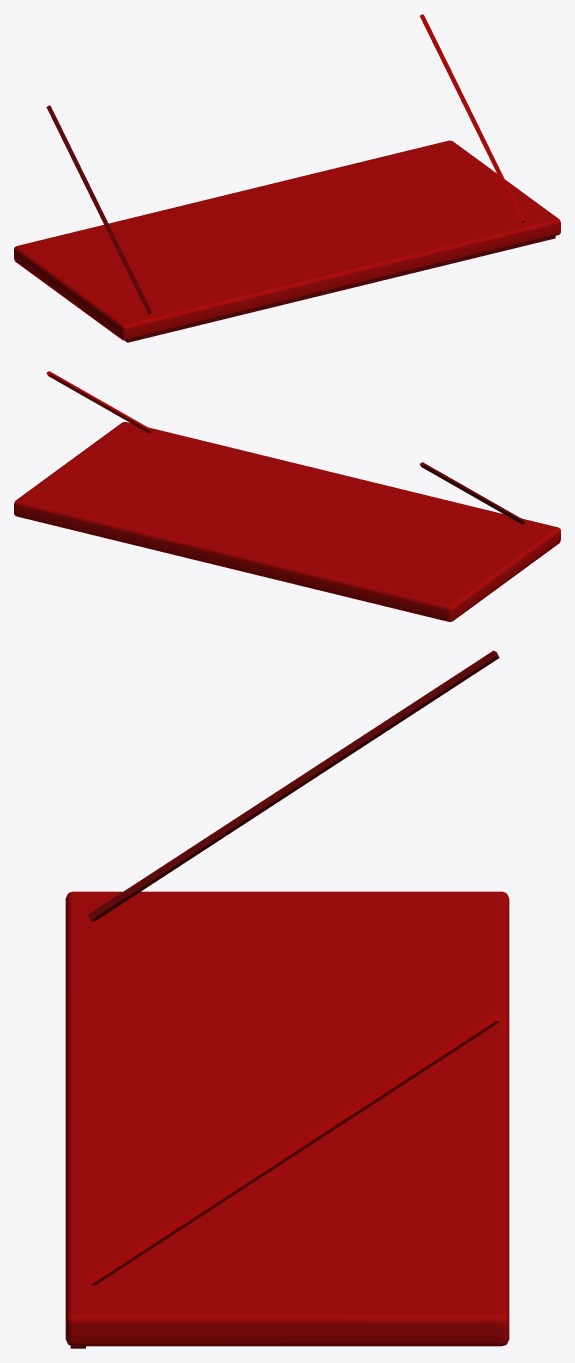
File: awning_b.glb
The picture shows the model from 3 angles, top to bottom: view 1: azimuth 30°, elevation 25°; view 2: azimuth 150°, elevation 25°; view 3: azimuth 270°, elevation 25°; orthographic projection. The views are drawn at different scales.
Parts seen in each view (by area): view 1: awning_b; view 2: awning_b; view 3: awning_b.
Boxes of the visible parts, x1,y1,x2,y2 form: awning_b: (14,14,560,342); awning_b: (14,371,560,621); awning_b: (65,650,509,1348).
Size of the model in its own units: 4 by 1.34 by 1.75.
